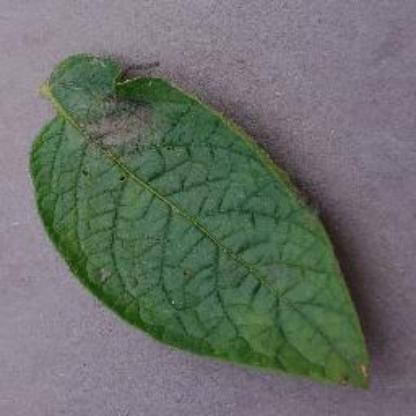Late-Blight: (21, 47, 379, 394)
